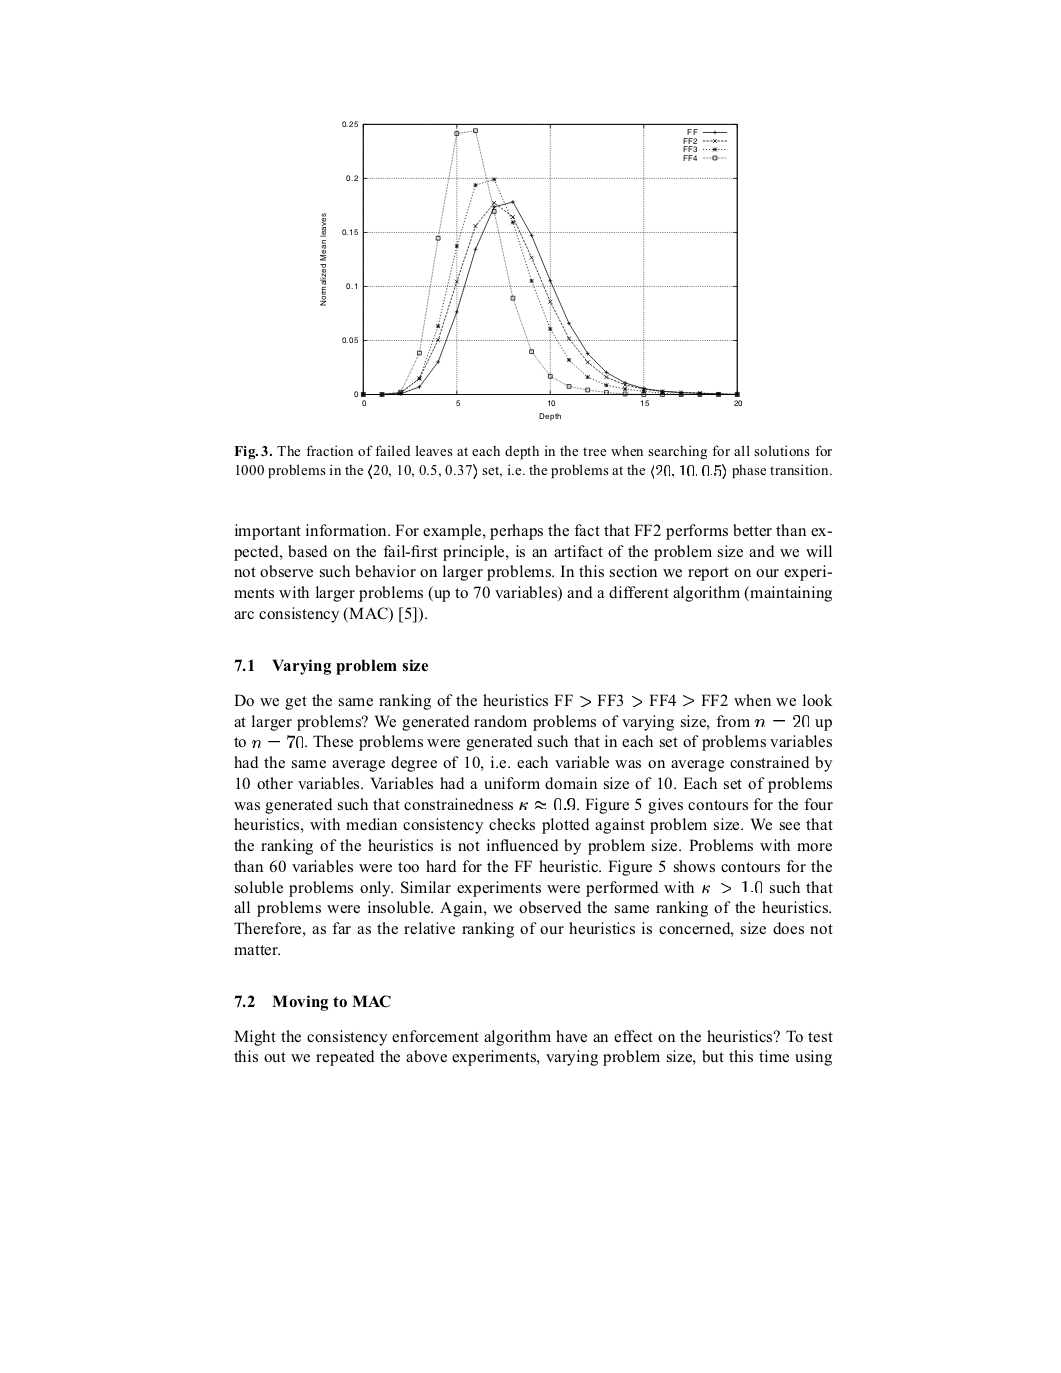figure: (320, 121, 742, 420)
